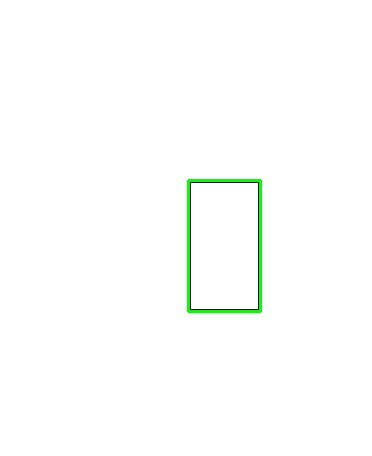line_segment: (187, 179, 262, 313)
